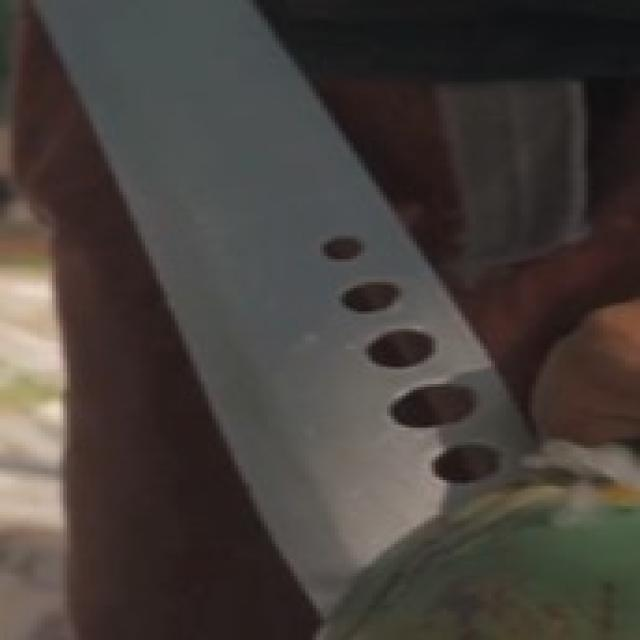knives: (24, 0, 588, 562)
